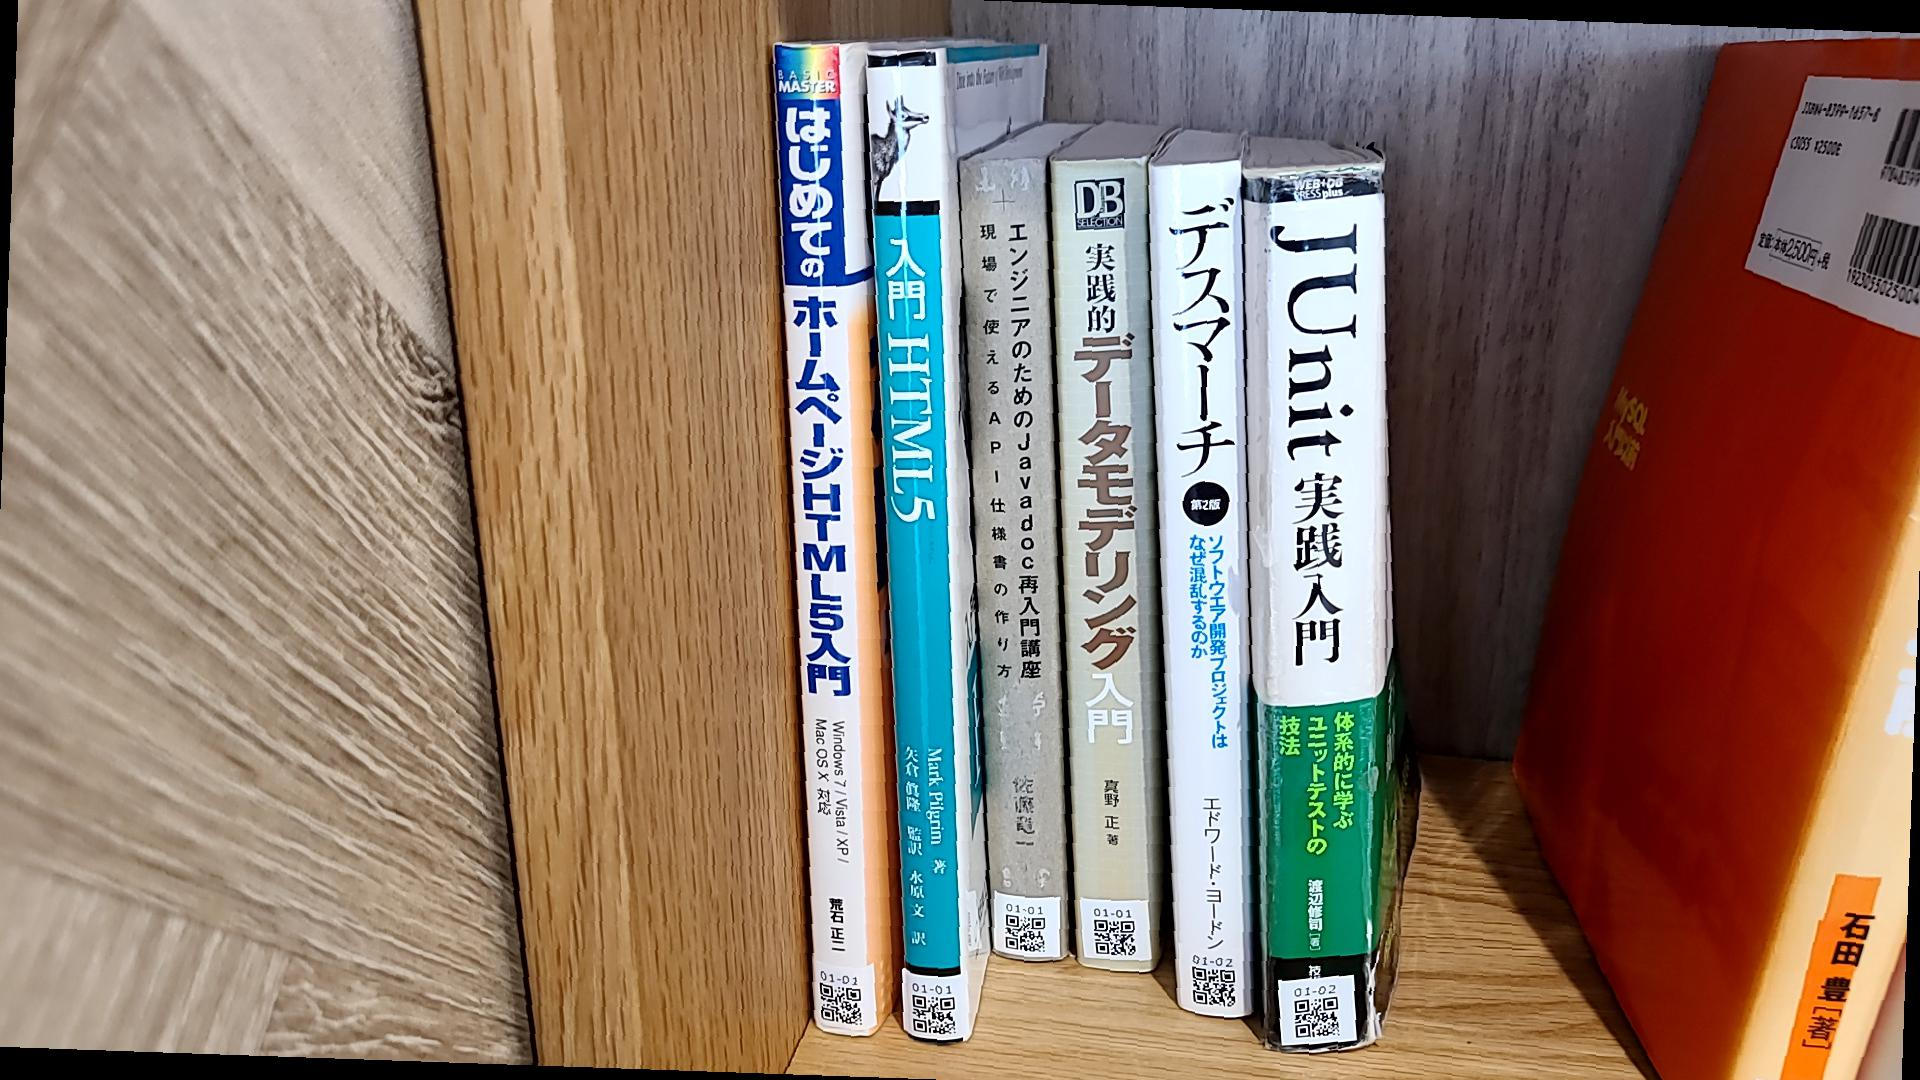book: (1250, 164, 1385, 1060), (861, 40, 977, 1042), (953, 152, 1079, 968), (1042, 146, 1164, 975), (771, 36, 872, 1047), (1146, 154, 1255, 1025)
